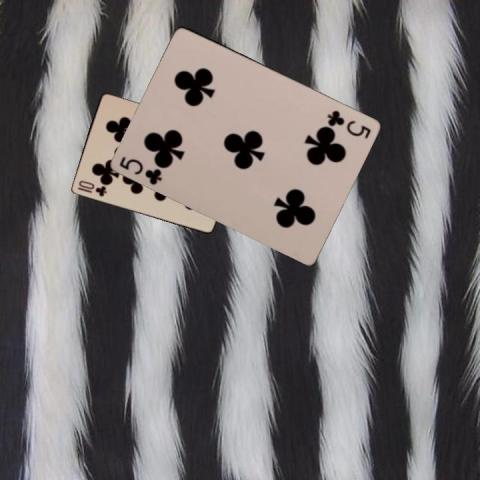10c: (74, 177, 108, 198)
5c: (324, 107, 373, 140), (117, 153, 164, 186)
